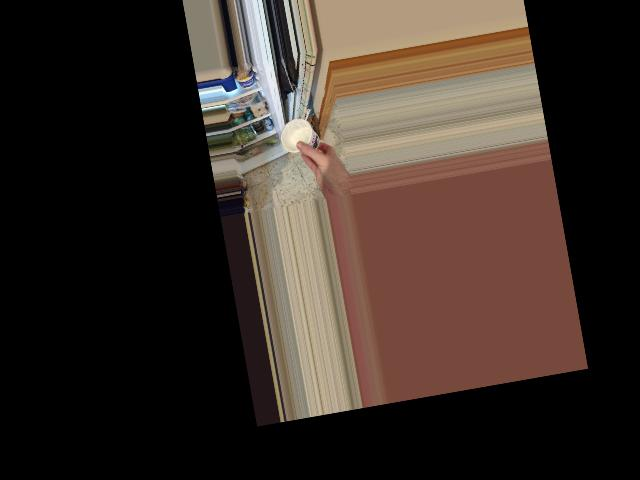cotage: (277, 113, 323, 157)
